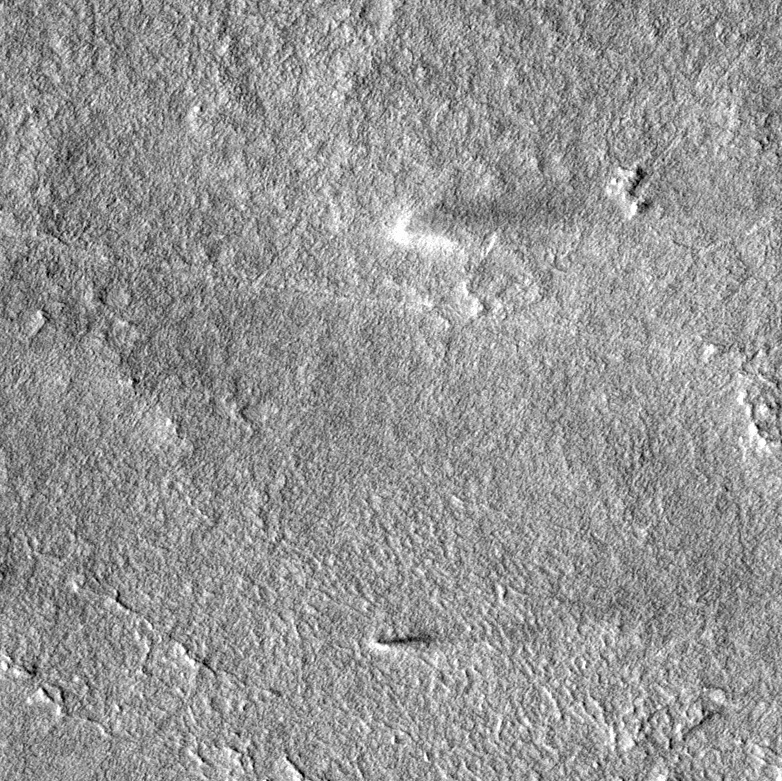dust_devil: (388, 187, 577, 248), (367, 629, 433, 652)
